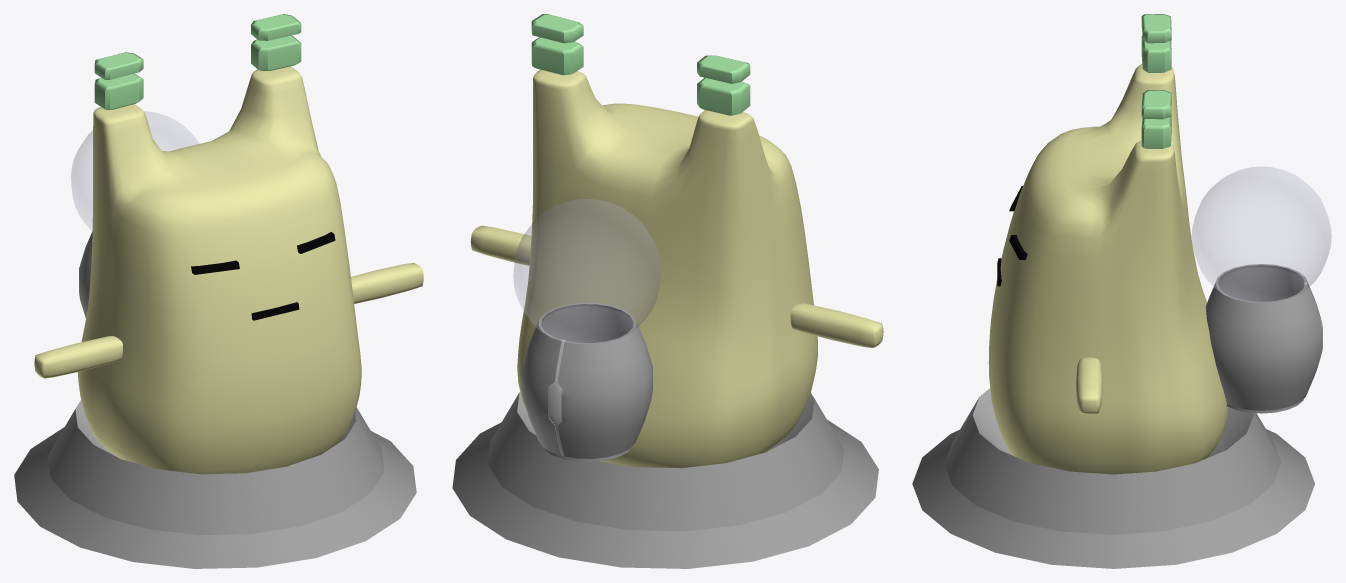
File: alien_noGunnoRigging.fbx
3 renders of one model, left to right at view 1: azimuth 30°, elevation 25°; view 2: azimuth 150°, elevation 25°; view 3: azimuth 270°, elevation 25°, orthographic. The views are drawn at different scales.
Visible parts, largest first — view 1: polySurface80; view 2: polySurface80; view 3: polySurface80.
Boxes of the visible parts, x1,y1,x2,y2 form: polySurface80: (14,14,423,568); polySurface80: (452,14,883,568); polySurface80: (912,14,1331,568).
Bounding box in the file's own units: 192 × 203 × 182.
